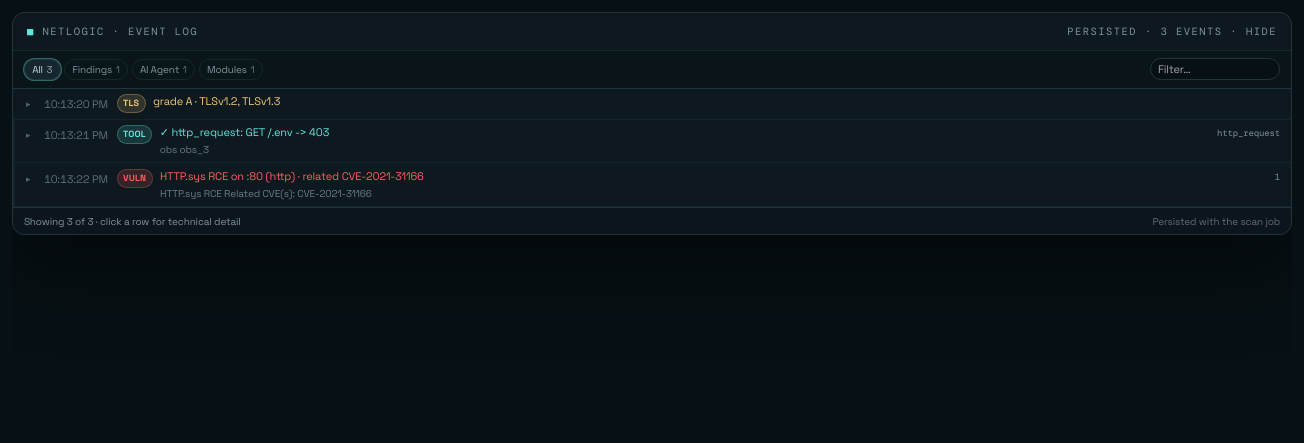
Test case: ScanFeed — click to expand technical detail › surfaces nested object data for an agent tool row
Step 1. Click the text "✓ http_request: GET /.env -> 403" → (244, 132), box [160,125,329,139]
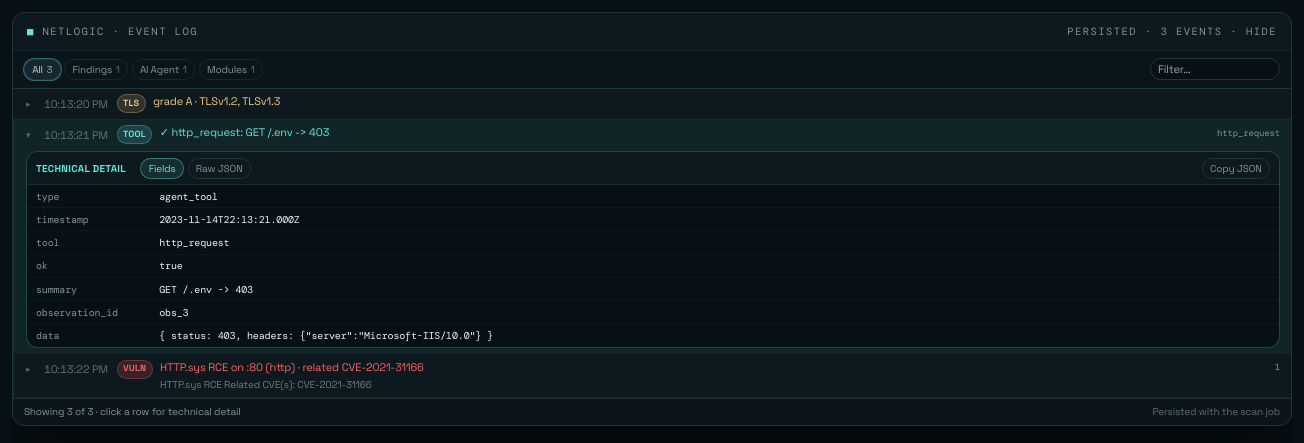
Now the text "Technical detail" is shown, box [36,161,126,176]
Now the text "{ status: 403, headers: {\"server\":\"Microsoft-IIS/10.0\"} }" is shown, box [150,324,1279,347]
